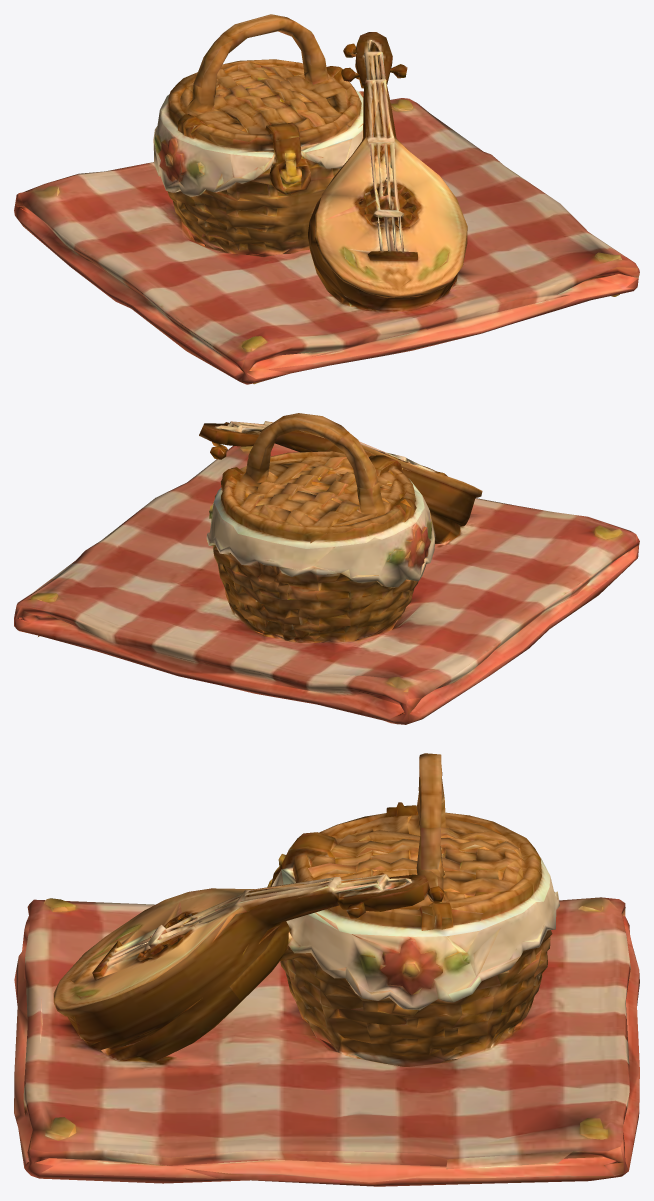
The model's file is lute-picnic.glb.
3 views of the same model, one above another, from view 1: azimuth 30°, elevation 25°; view 2: azimuth 150°, elevation 25°; view 3: azimuth 270°, elevation 25° (orthographic). The views are drawn at different scales.
Visible parts, largest first — view 1: Mesh1.0; view 2: Mesh1.0; view 3: Mesh1.0.
Part boxes in pixels (x1,y1,x2,y2): Mesh1.0: [14, 14, 639, 384]; Mesh1.0: [14, 413, 639, 724]; Mesh1.0: [14, 753, 639, 1186].
Size of the model in its own units: 1.9 by 0.9456 by 1.9.
1 material, 1 textured.
